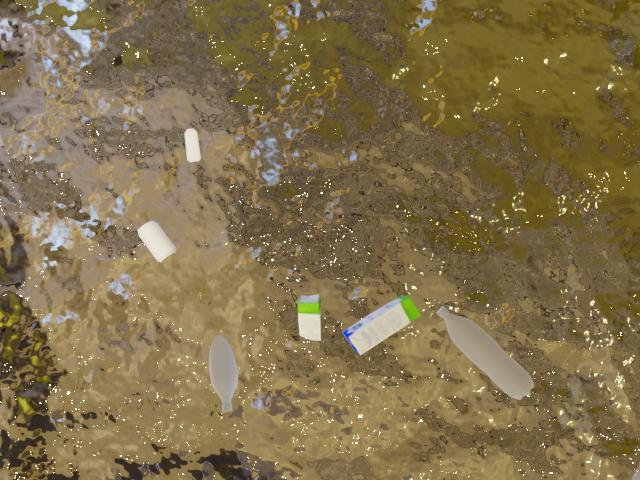Metal: (133, 212, 180, 268), (179, 123, 203, 167)
Plastic: (426, 294, 548, 402), (194, 326, 248, 416)
Trash: (333, 284, 421, 361), (291, 289, 326, 347)
